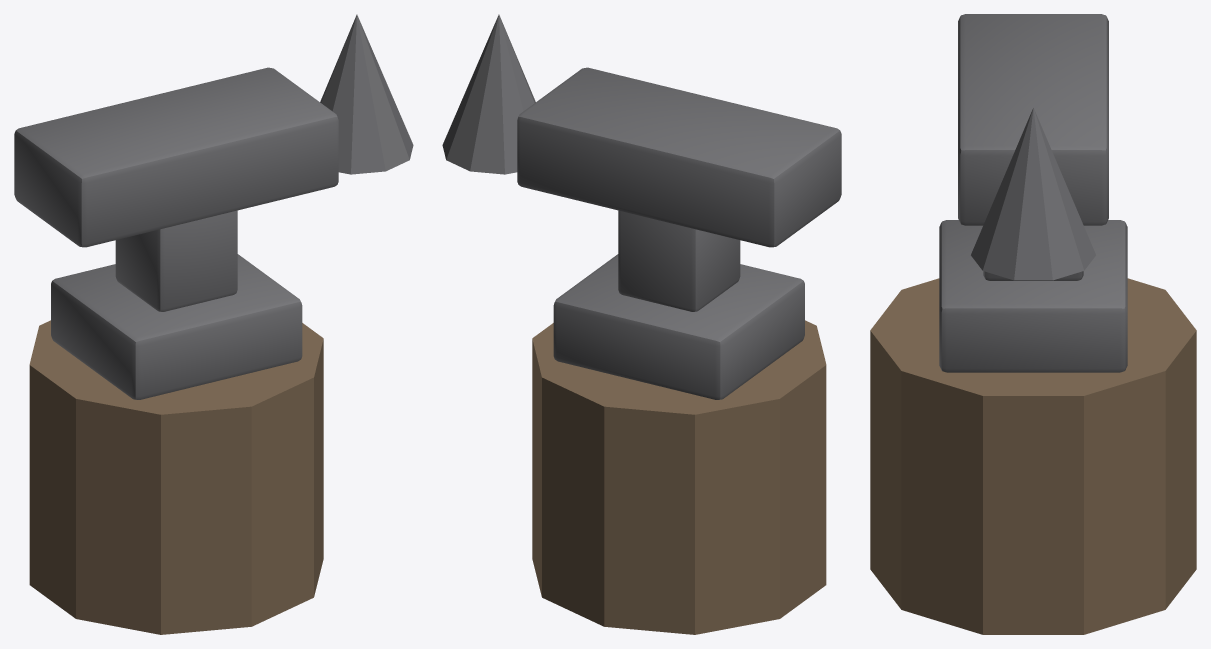
Rendered from anvil.glb.
3 renders of one model, left to right at view 1: azimuth 30°, elevation 25°; view 2: azimuth 150°, elevation 25°; view 3: azimuth 270°, elevation 25°, orthographic. The views are drawn at different scales.
Parts seen in each view (by area): view 1: anvil; view 2: anvil; view 3: anvil.
Boxes of the visible parts, x1=… form: anvil: x1=14, y1=14, x2=413, y2=634; anvil: x1=442, y1=14, x2=841, y2=634; anvil: x1=870, y1=14, x2=1196, y2=634.
Bounding box in the file's own units: 0.7151 × 0.98 × 0.52.
